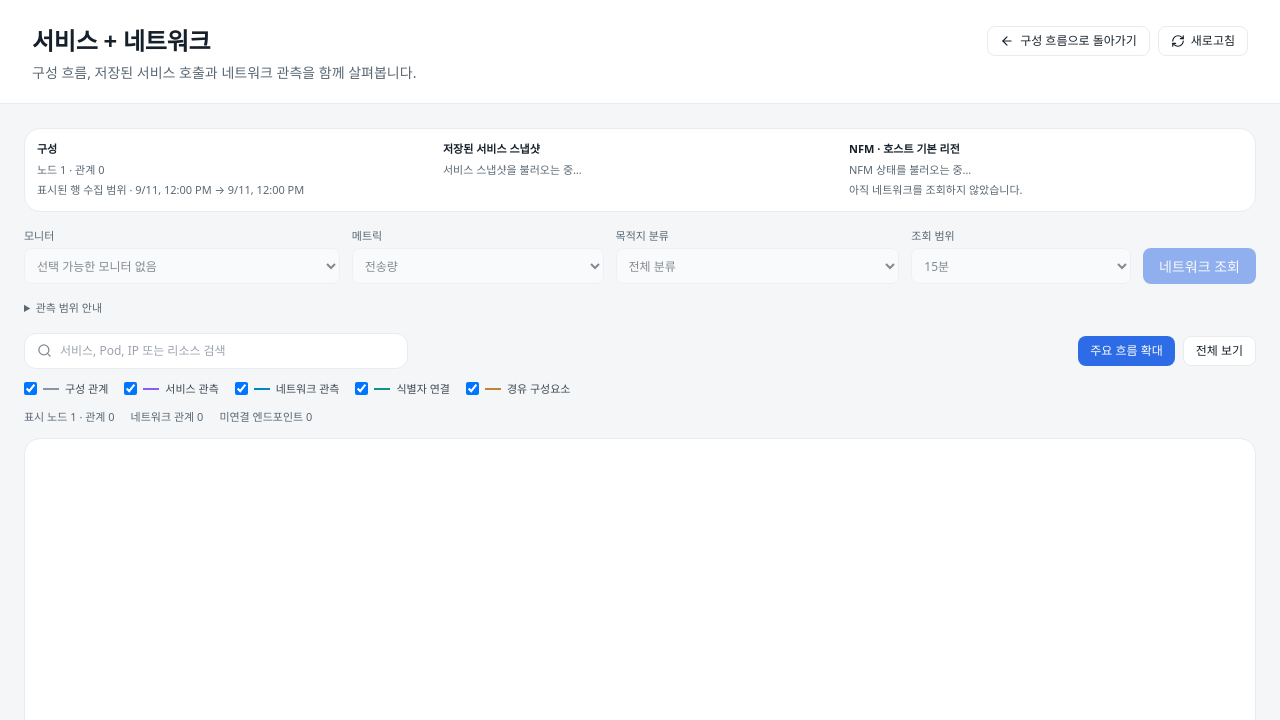
ServiceNetworkTopology › recovers a busy trace read without starting a network query
Type "checkout-service" into the search field named "서비스 또는 리소스 검색" at (228, 350), box [60,342,395,360]
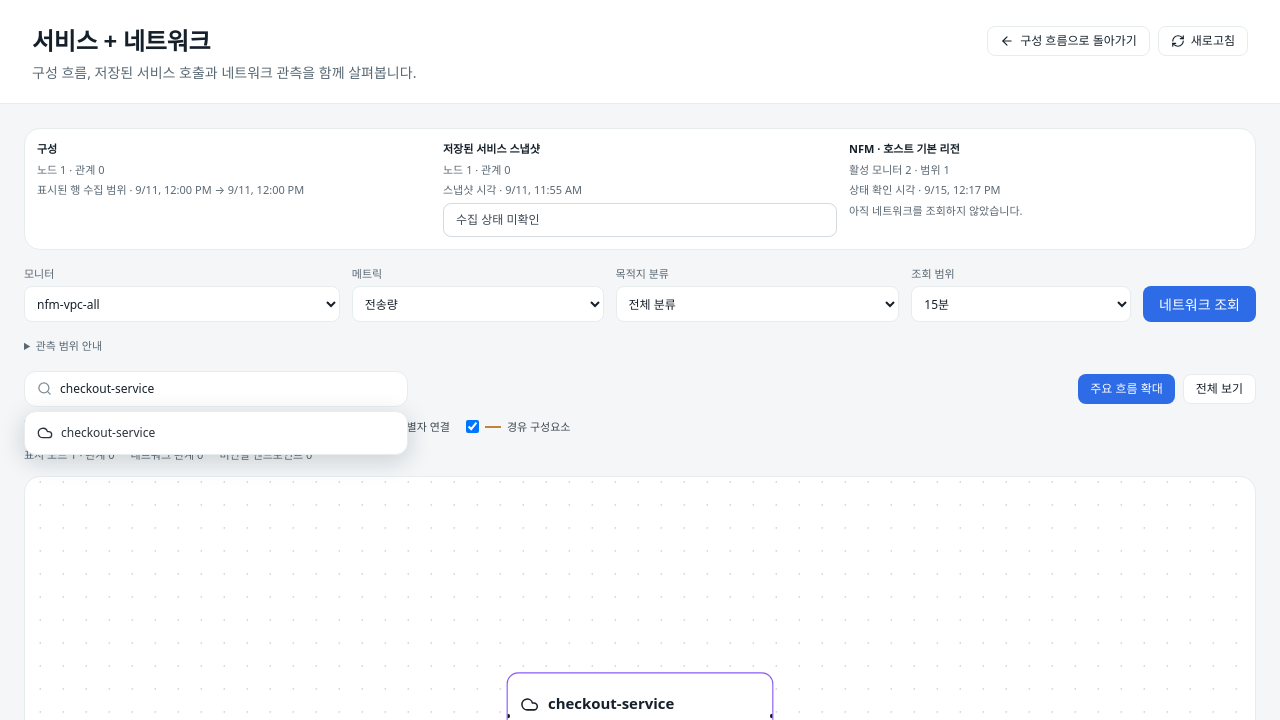
Check: the button with aria-label "선택: checkout-service" is shown, box [29,416,403,450]
